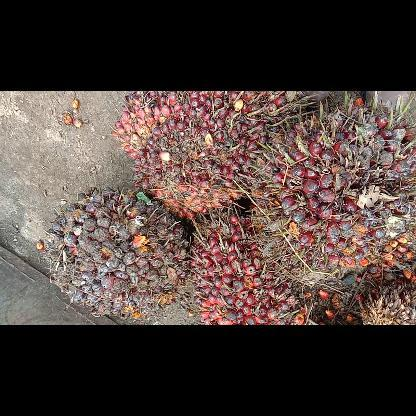Kurang masak: (42, 185, 192, 321)
TBS masak: (243, 100, 415, 284), (109, 90, 301, 222), (187, 206, 311, 324)
